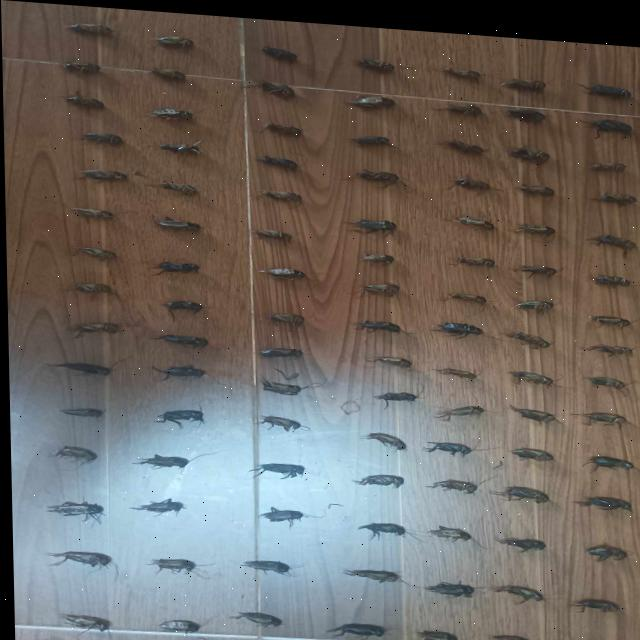egg: (45, 501, 101, 521), (44, 550, 109, 566), (257, 503, 306, 523), (488, 479, 547, 495), (490, 577, 541, 595), (152, 407, 202, 425), (584, 110, 633, 128), (128, 496, 183, 512), (59, 613, 107, 631), (52, 445, 95, 465), (434, 398, 484, 415), (250, 459, 303, 475), (430, 315, 482, 331), (359, 427, 404, 445), (48, 362, 110, 375), (150, 363, 203, 378), (422, 575, 471, 591), (130, 452, 186, 466), (508, 398, 554, 415), (227, 608, 279, 623), (324, 619, 383, 632), (341, 564, 399, 577), (420, 434, 470, 449), (372, 386, 416, 403), (572, 489, 629, 502), (508, 138, 549, 156), (586, 226, 635, 241), (582, 75, 631, 90), (239, 557, 291, 571), (491, 531, 539, 546), (506, 324, 550, 340), (425, 473, 475, 487), (148, 178, 197, 192), (569, 590, 617, 604), (257, 412, 299, 428), (582, 447, 633, 460), (350, 469, 401, 482), (354, 164, 398, 179), (427, 519, 468, 535), (152, 259, 198, 273), (154, 332, 207, 344), (439, 133, 483, 147), (501, 71, 545, 85), (584, 537, 625, 552), (261, 42, 297, 59), (147, 557, 194, 570), (570, 403, 625, 414), (415, 624, 455, 639), (509, 440, 551, 454), (155, 617, 197, 631), (357, 53, 396, 68), (260, 377, 301, 391), (356, 518, 403, 530), (505, 101, 545, 115), (591, 184, 637, 196), (355, 315, 401, 327), (509, 364, 551, 377), (262, 119, 301, 133), (258, 79, 294, 94), (514, 216, 555, 229), (160, 138, 201, 151), (583, 336, 631, 347), (257, 264, 305, 275), (162, 297, 202, 310), (82, 132, 122, 145), (64, 95, 104, 108), (79, 169, 126, 180), (450, 210, 493, 222), (438, 98, 481, 110), (359, 277, 398, 290), (433, 361, 475, 373), (365, 351, 410, 362), (350, 91, 395, 102), (250, 226, 291, 238), (155, 217, 199, 228), (148, 106, 192, 117), (487, 628, 527, 640), (75, 246, 115, 258), (587, 307, 630, 318), (73, 322, 120, 332), (257, 152, 296, 164), (154, 34, 193, 46), (348, 214, 394, 224), (586, 368, 624, 380), (591, 266, 629, 278), (515, 176, 553, 188), (451, 170, 489, 182), (62, 61, 100, 73), (444, 286, 485, 297), (67, 23, 112, 33), (259, 187, 299, 198), (58, 407, 102, 417), (266, 310, 302, 322), (149, 66, 185, 78), (514, 257, 557, 267), (66, 282, 109, 292), (350, 130, 391, 140), (263, 344, 308, 353), (454, 250, 494, 260), (440, 61, 480, 71), (588, 153, 626, 163), (72, 208, 112, 217), (514, 293, 553, 302), (361, 249, 393, 259), (573, 636, 615, 640), (601, 449, 607, 455)
